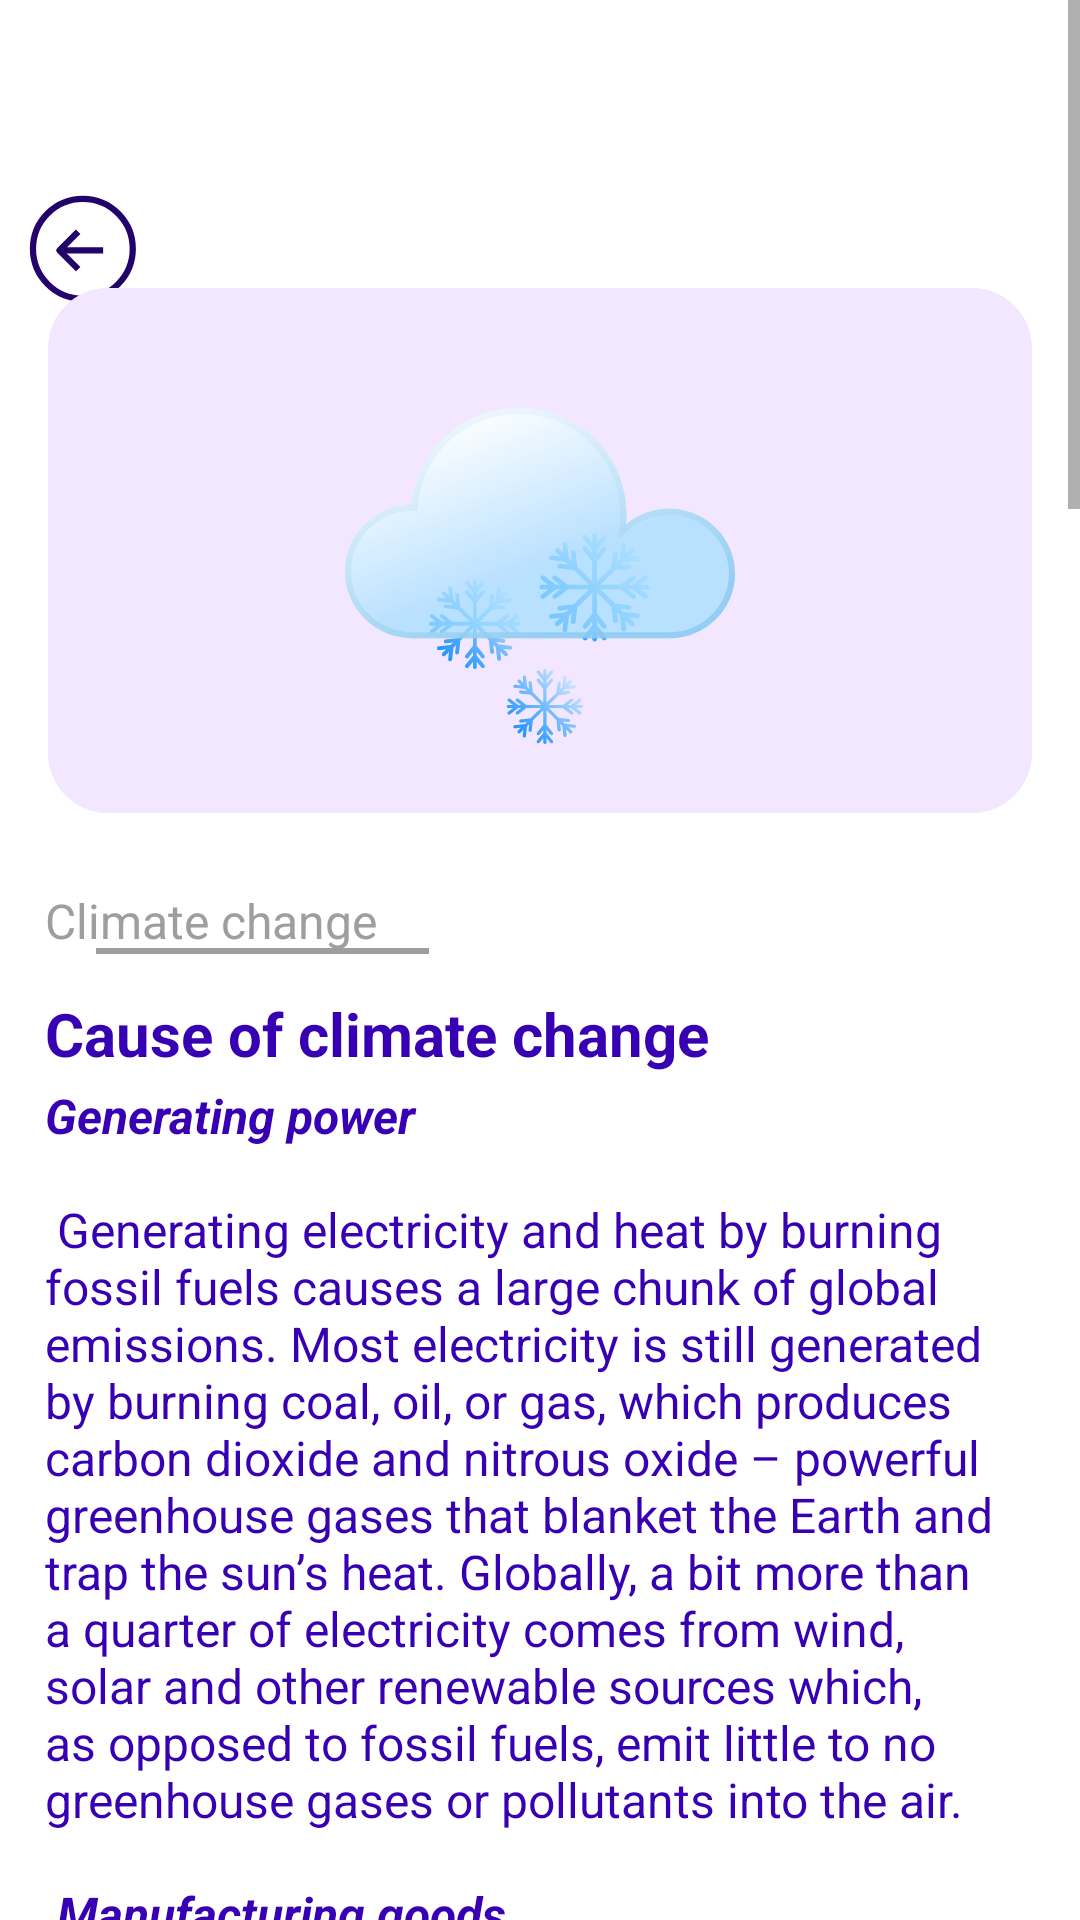

Icon click points for this 1080w x 1920h phone screenshot, format [x,y]:
back arrow: [82,248]
